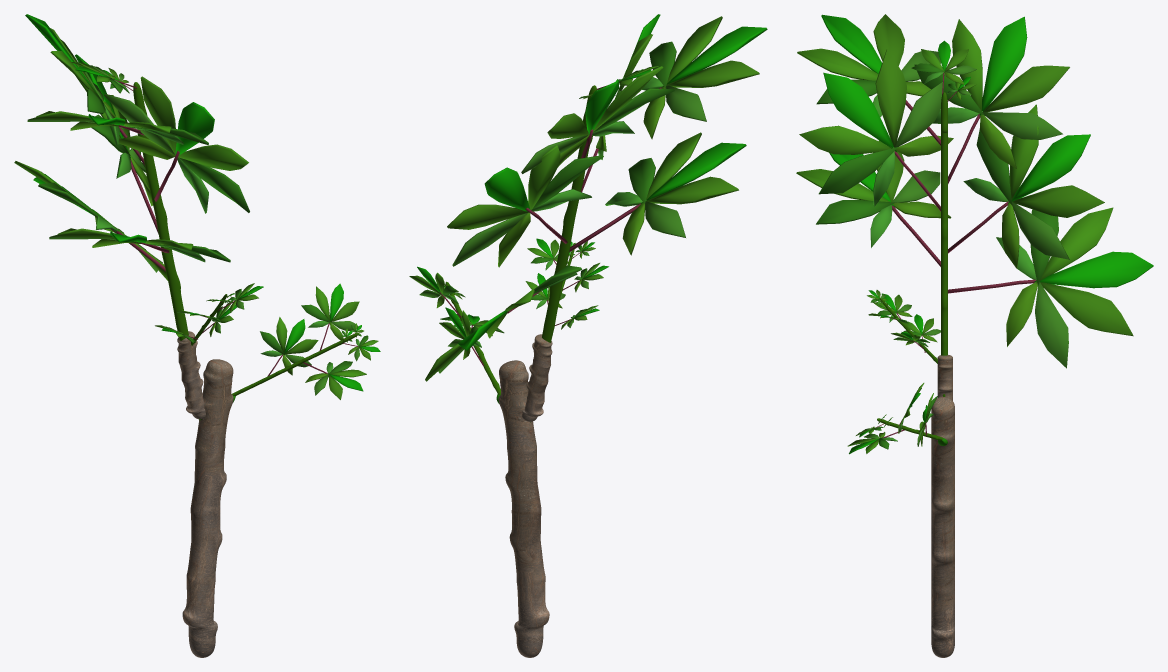
The model's file is casava_4.glb.
3 renders of one model, left to right at view 1: azimuth 30°, elevation 25°; view 2: azimuth 150°, elevation 25°; view 3: azimuth 270°, elevation 25°, orthographic. The views are drawn at different scales.
Visible parts, largest first — view 1: Plane, Plane.001, Plane.180, Plane.028, Plane.026, Plane.027, Plane.029, Plane.031, Plane.032, Plane.002, Plane.034, Plane.030; view 2: Plane, Plane.001, Plane.180, Plane.042, Plane.010, Plane.043, Plane.011, Plane.018, Plane.019, Plane.044, Plane.012, Plane.020 (+15 smaller); view 3: Plane, Plane.172, Plane.173, Plane.034, Plane.026, Plane.018, Plane.035, Plane.174, Plane.027, Plane.001, Plane.019, Plane.028 (+25 smaller).
Part boxes in pixels (x1,y1,x2,y2): Plane: (182, 359, 233, 657); Plane.001: (133, 82, 201, 420); Plane.180: (177, 331, 205, 419); Plane.028: (178, 144, 248, 170); Plane.026: (175, 102, 214, 154); Plane.027: (140, 76, 176, 154); Plane.029: (174, 154, 249, 212); Plane.031: (104, 93, 174, 154); Plane.032: (114, 135, 175, 159); Plane.002: (232, 333, 358, 395); Plane.034: (25, 14, 99, 97); Plane.030: (177, 157, 208, 213); Plane: (498, 360, 549, 657); Plane.001: (530, 85, 596, 422); Plane.180: (522, 334, 552, 421); Plane.042: (661, 26, 767, 87); Plane.010: (641, 142, 746, 203); Plane.043: (666, 60, 759, 87); Plane.011: (646, 176, 738, 204); Plane.018: (484, 167, 530, 211); Plane.019: (447, 204, 528, 229); Plane.044: (667, 16, 722, 83); Plane.012: (643, 132, 701, 202); Plane.020: (528, 145, 560, 209); Plane: (931, 397, 954, 657); Plane.172: (1034, 251, 1153, 288); Plane.173: (1040, 282, 1133, 336); Plane.034: (979, 16, 1027, 116); Plane.026: (823, 72, 896, 151); Plane.018: (1008, 134, 1090, 203); Plane.035: (983, 65, 1069, 112); Plane.174: (1036, 207, 1113, 283); Plane.027: (875, 49, 906, 147); Plane.001: (941, 92, 947, 396); Plane.019: (1012, 185, 1104, 217); Plane.028: (799, 125, 896, 154).
Bounding box in the file's own units: 5.59 × 10.14 × 5.64.
11 materials, 1 textured.
